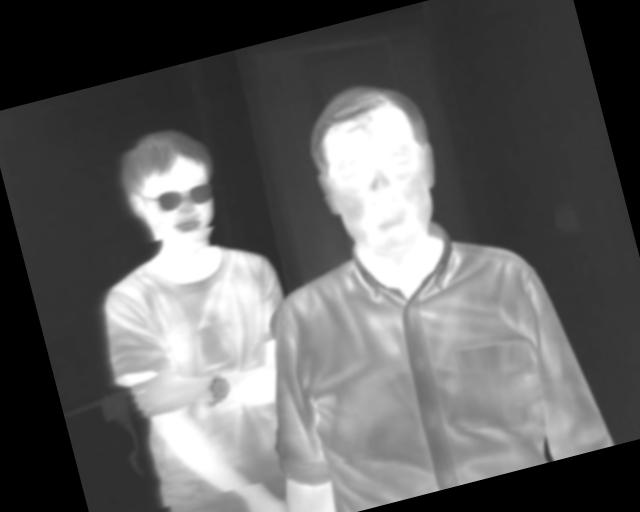face: (296, 69, 457, 275), (112, 119, 231, 265)
